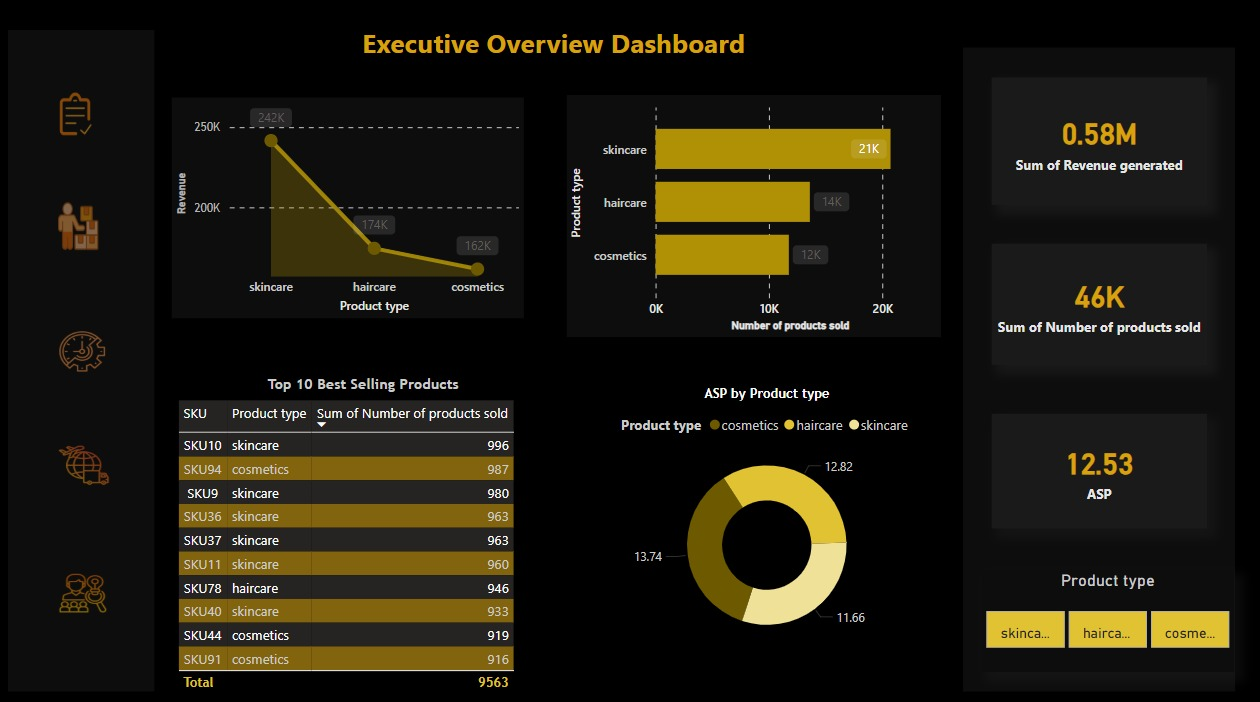

The dashboard page shown, as its layout file describes it:
{"tool":"powerbi","page":{"name":"Overview dashboard","canvas":[1280,720],"ordinal":0},"visuals":[{"type":"textbox","box":[128.6,25.7,865.7,52.9],"z":0},{"type":"actionButton","box":[59.4,98.6,37.6,43.9],"z":0,"group":"g1"},{"type":"shape","box":[10.4,35.5,148,669],"z":1000},{"type":"shape","box":[975.4,53.2,275.1,651.2],"z":2000},{"type":"card","fields":{"Values":["Sum(supply_chain_data (2).Revenue generated)"]},"box":[1004.7,83.7,217.9,128.9],"z":3000},{"type":"actionButton","box":[60.7,207.3,40.4,53.1],"z":3000,"group":"g1"},{"type":"card","title":"GVGV","fields":{"Values":["Sum(supply_chain_data (2).Number of products sold)"]},"box":[1004.7,251.2,217.9,122.3],"z":4000},{"type":"actionButton","box":[61.9,340,46.8,40.4],"z":4000,"group":"g1"},{"type":"card","fields":{"Values":["supply_chain_data (2).ASP"]},"box":[1004.7,423.9,217.9,115.6],"z":5000},{"type":"actionButton","box":[60.7,585.2,50.6,39.2],"z":5000,"group":"g1"},{"type":"lineChart","title":"Revenue per product category","fields":{"Category":["supply_chain_data (2).Product type"],"Y":["Sum(supply_chain_data (2).Revenue generated)"]},"box":[175.4,103.7,356.2,223.3],"z":6000},{"type":"actionButton","box":[60.7,455,51.8,40.4],"z":6000,"group":"g1"},{"type":"barChart","fields":{"Category":["supply_chain_data (2).Product type"],"Y":["Sum(supply_chain_data (2).Number of products sold)"]},"box":[575.4,101,378.7,244.5],"z":7000},{"type":"advancedSlicerVisual","fields":{"Values":["supply_chain_data (2).Product type"]},"box":[994.6,581.1,255.3,103.4],"z":8000},{"type":"donutChart","fields":{"Y":["supply_chain_data (2).ASP"],"Category":["supply_chain_data (2).Product type"]},"box":[600,394.3,354.3,274.3],"z":9000},{"type":"tableEx","title":"Top 10 Best Selling Products","fields":{"Values":["supply_chain_data (2).SKU","supply_chain_data (2).Product type","Sum(supply_chain_data (2).Number of products sold)"]},"box":[175.7,384.3,385.7,335.7],"z":12000},{"type":"group","id":"g1","title":"Group 1","box":[59.4,98.6,53.1,525.8],"z":12001}]}

Visuals, with their boxes in screenshot pixels (x1, y1, x2, y2), scaled from the page's 1280x720 canvas onto the 1260x702 screenshot:
textbox: bbox=(127, 25, 979, 77)
actionButton: bbox=(58, 96, 95, 139)
shape: bbox=(10, 35, 156, 687)
shape: bbox=(960, 52, 1231, 687)
card - Sum(supply_chain_data (2).Revenue generated): bbox=(989, 82, 1203, 207)
actionButton: bbox=(60, 202, 100, 254)
"GVGV" card: bbox=(989, 245, 1203, 364)
actionButton: bbox=(61, 332, 107, 371)
card - supply_chain_data (2).ASP: bbox=(989, 413, 1203, 526)
actionButton: bbox=(60, 571, 110, 609)
"Revenue per product category" lineChart: bbox=(173, 101, 523, 319)
actionButton: bbox=(60, 444, 111, 483)
barChart - supply_chain_data (2).Product type x Sum(supply_chain_data (2).Number of products sold): bbox=(566, 98, 939, 337)
advancedSlicerVisual - supply_chain_data (2).Product type: bbox=(979, 567, 1230, 667)
donutChart - supply_chain_data (2).ASP x supply_chain_data (2).Product type: bbox=(591, 384, 939, 652)
"Top 10 Best Selling Products" tableEx: bbox=(173, 375, 553, 701)
"Group 1" group: bbox=(58, 96, 111, 609)
